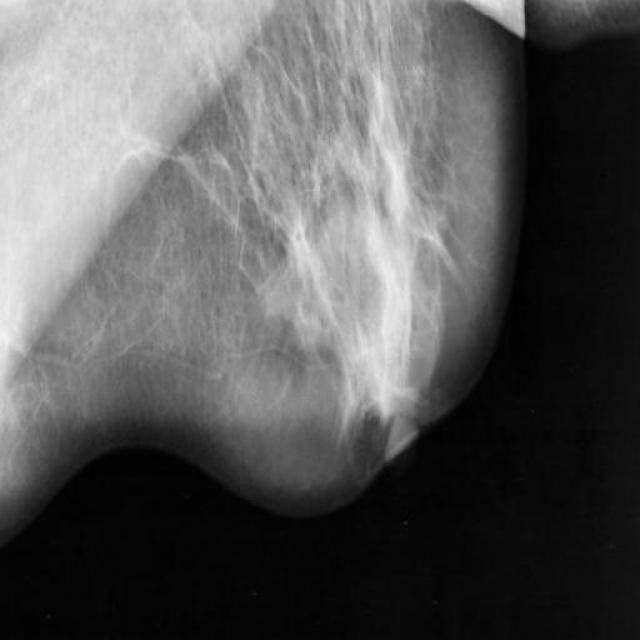cancer: (267, 294, 328, 400)
